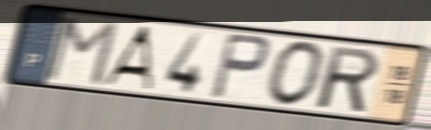4: (162, 29, 206, 97)
A: (98, 24, 154, 93)
M: (41, 15, 122, 89)
O: (264, 38, 329, 110)
P: (207, 30, 272, 102)
R: (316, 44, 381, 116)
